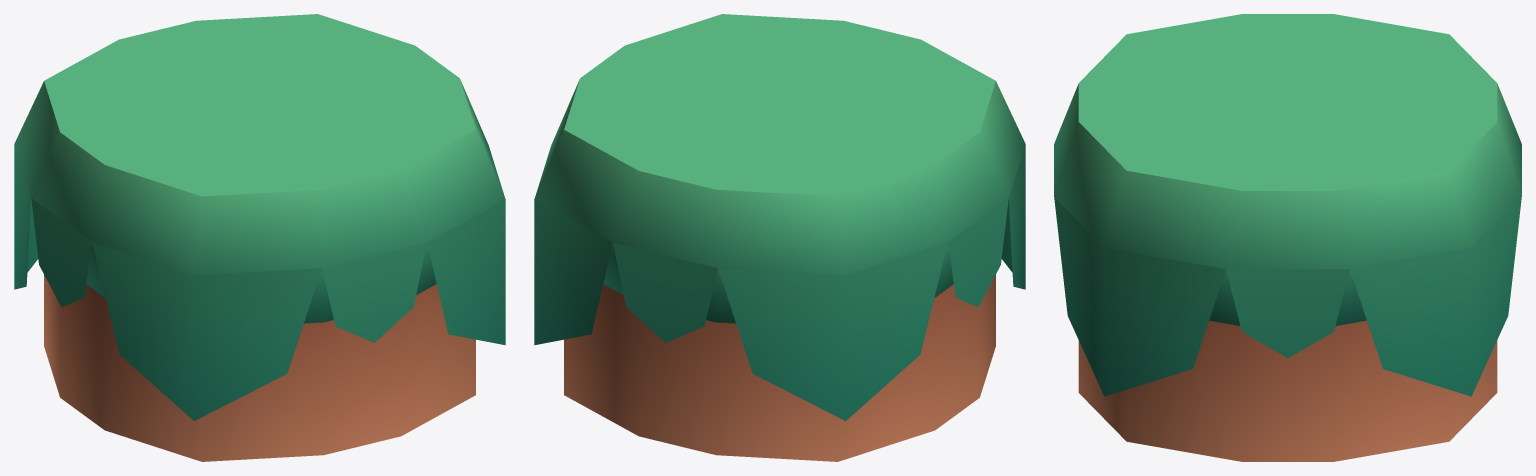
File: block-grass-overhang-low-narrow.glb
3 views of the same model, side by side, from view 1: azimuth 30°, elevation 25°; view 2: azimuth 150°, elevation 25°; view 3: azimuth 270°, elevation 25° (orthographic). The views are drawn at different scales.
Parts seen in each view (by area): view 1: block-grass-overhang-low-narrow; view 2: block-grass-overhang-low-narrow; view 3: block-grass-overhang-low-narrow.
Boxes of the visible parts, <box> form: block-grass-overhang-low-narrow: <box>14,14,505,461</box>; block-grass-overhang-low-narrow: <box>534,14,1025,461</box>; block-grass-overhang-low-narrow: <box>1054,14,1521,461</box>.
Size of the model in its own units: 0.7821 by 0.5 by 0.7821.
1 material, 1 textured.
